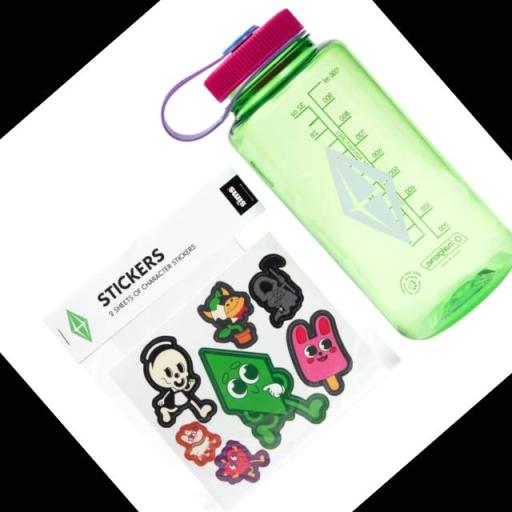bottle: (145, 0, 512, 385)
